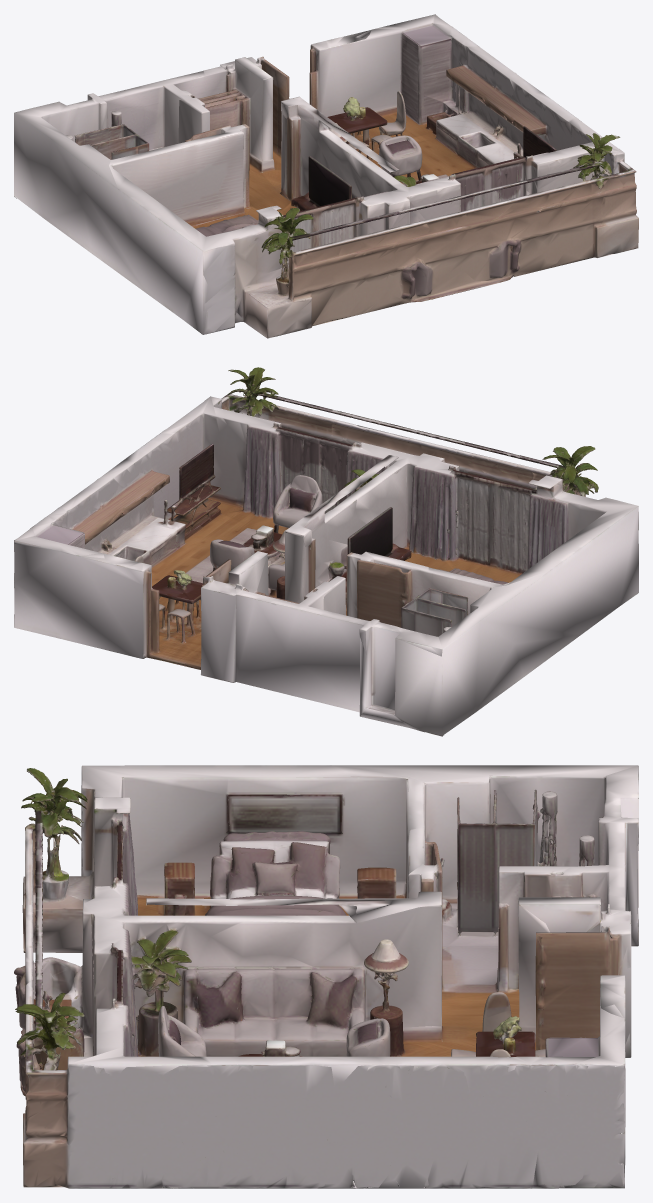
The picture shows the model from 3 angles, top to bottom: view 1: azimuth 30°, elevation 25°; view 2: azimuth 150°, elevation 25°; view 3: azimuth 270°, elevation 25°; orthographic projection. The views are drawn at different scales.
Visible parts, largest first — view 1: Mesh_0; view 2: Mesh_0; view 3: Mesh_0.
Part boxes in pixels (<box>): Mesh_0: <box>14,14,638,338</box>; Mesh_0: <box>14,367,638,736</box>; Mesh_0: <box>14,765,638,1188</box>.
Bounding box in the file's own units: 1.91 × 0.4981 × 1.68.
Materials: 1 (1 with a texture image).
